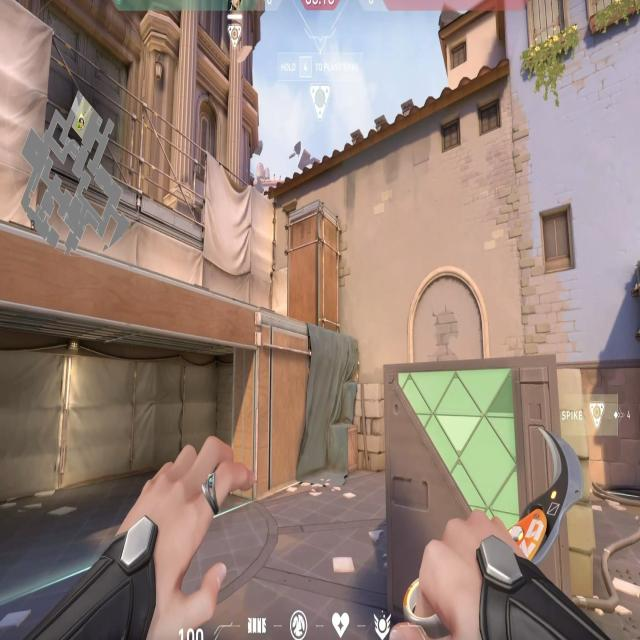A_Heaven_Box: (278, 191, 352, 338)
